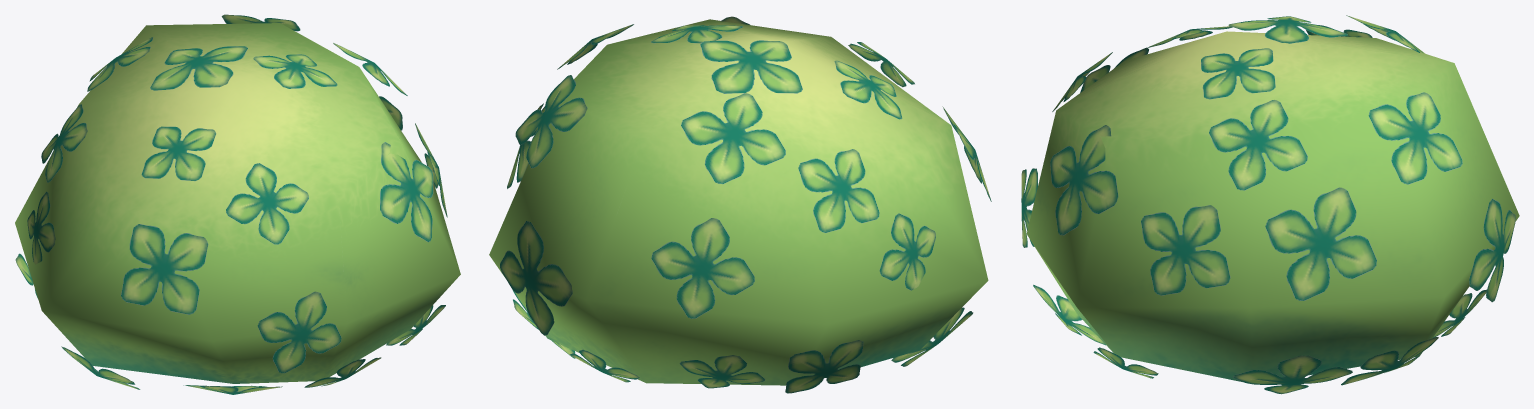
The model's file is M_Bush_Flowers.fbx.
3 renders of one model, left to right at view 1: azimuth 30°, elevation 25°; view 2: azimuth 150°, elevation 25°; view 3: azimuth 270°, elevation 25°, orthographic. The views are drawn at different scales.
Parts seen in each view (by area): view 1: M_Bush_Flowers; view 2: M_Bush_Flowers; view 3: M_Bush_Flowers.
Part boxes in pixels (x1,y1,x2,y2): M_Bush_Flowers: (15,14,460,394); M_Bush_Flowers: (489,16,991,393); M_Bush_Flowers: (1021,15,1519,394).
Size of the model in its own units: 1.04 by 1.06 by 0.7148.
1 material, 1 textured.
